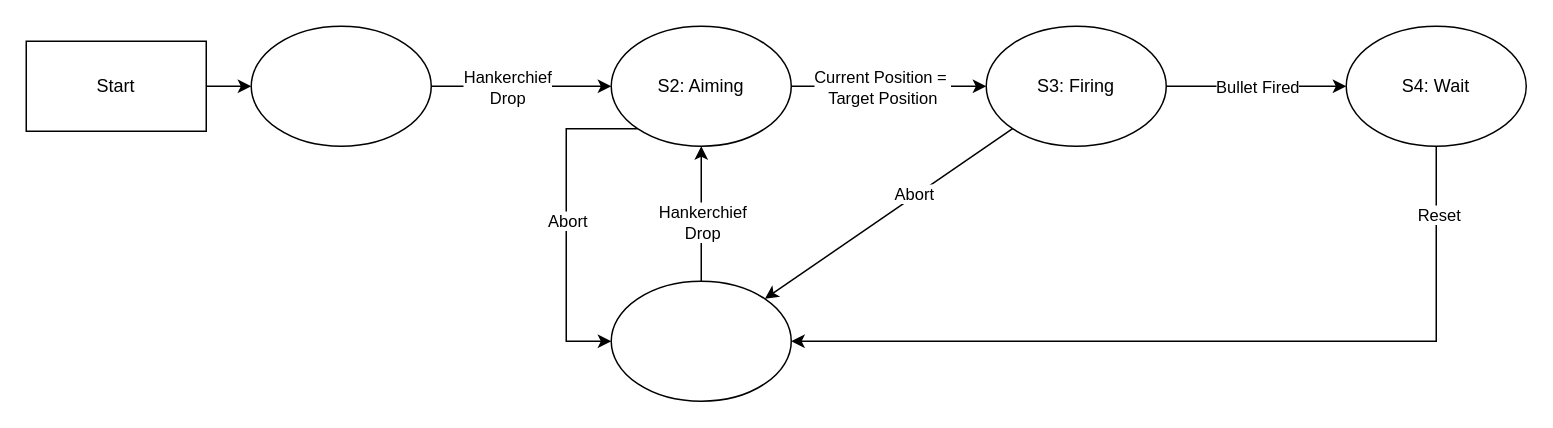
Image size: 1553x428. Some labels were removed from this diagram. Here are the shapes that lost their labels. From the top down, the box of each, then its label:
(250, 25, 431, 146): S1: Startup
(610, 280, 791, 401): S5: Reset
